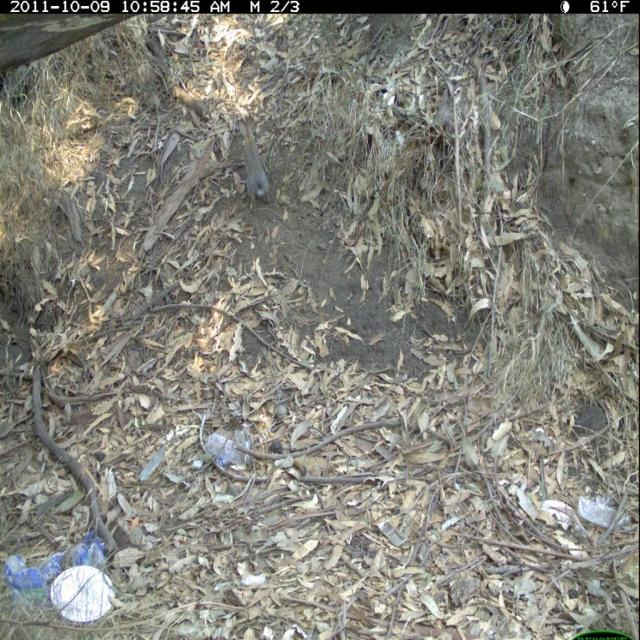rabbit: (234, 112, 274, 215)
